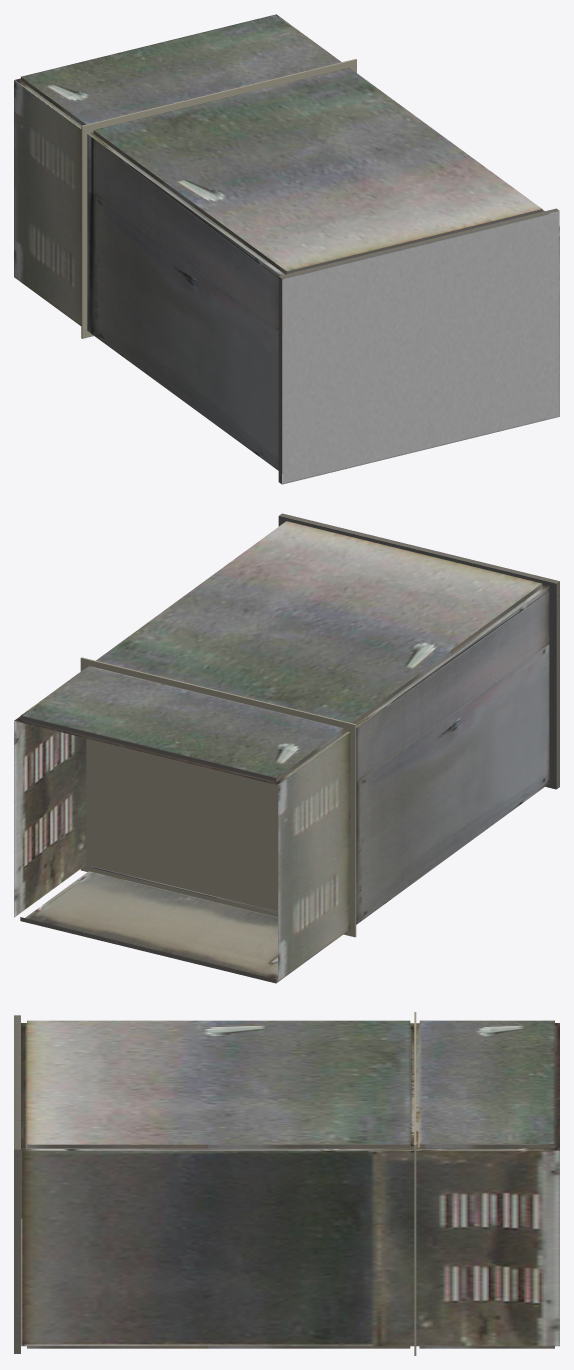
The model's file is ftzbzsb-dzx-056-geode.glb.
The picture shows the model from 3 angles, top to bottom: view 1: azimuth 30°, elevation 25°; view 2: azimuth 150°, elevation 25°; view 3: azimuth 270°, elevation 25°; orthographic projection.
Visible parts, largest first — view 1: Node; view 2: Node; view 3: Node.
Boxes of the visible parts, x1,y1,x2,y2 form: Node: (14,14,559,484); Node: (14,513,559,983); Node: (14,1012,559,1355).
Bounding box in the file's own units: 0.9329 × 0.6812 × 1.6.
Materials: 5 (5 with a texture image).
